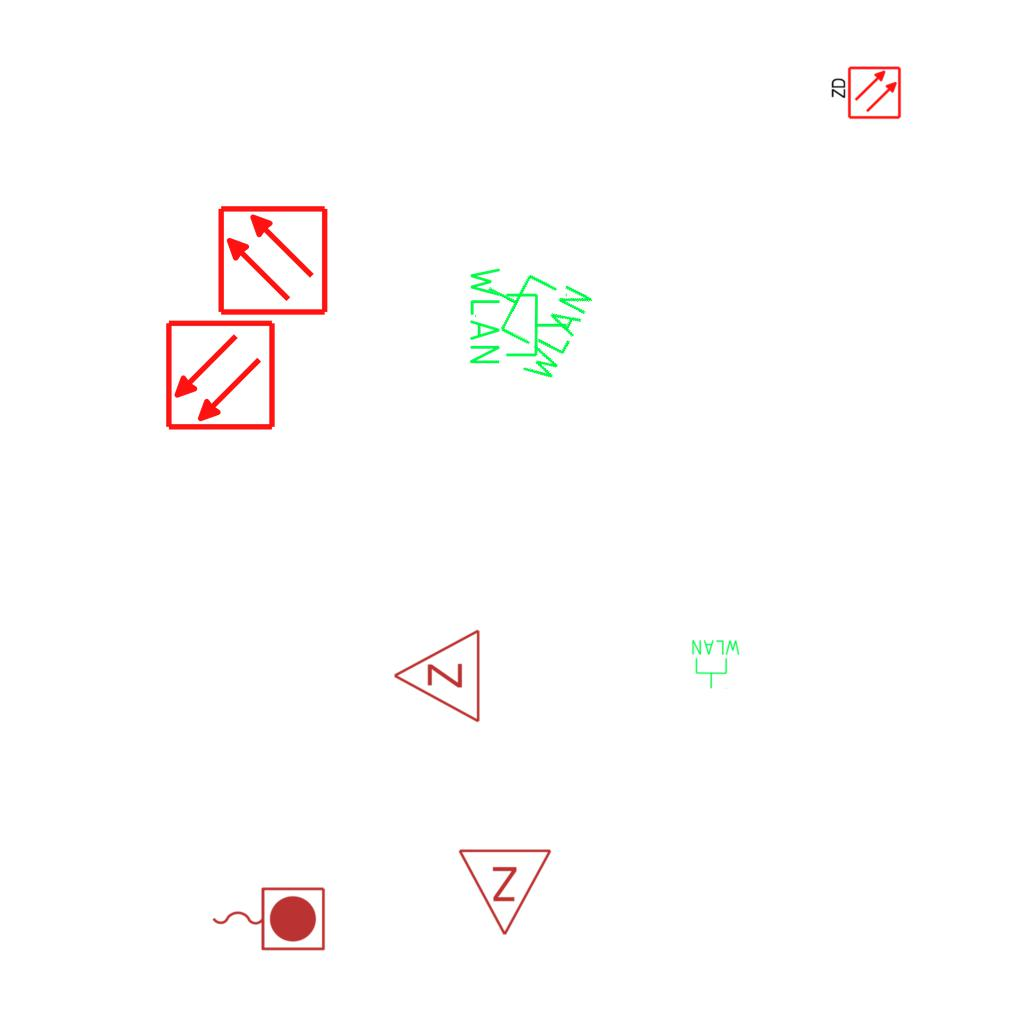RMO_Rauchmelder_optischer: (216, 204, 329, 317), (164, 319, 277, 432)
WLAN: (457, 249, 599, 390), (466, 263, 570, 368), (690, 638, 742, 690)
ZD_Melder_in_Zwischendecke_mit_Revisionsoeffnung_mind_40_x_40_cm: (828, 65, 902, 122)
Zimmersignalleuchte: (387, 628, 487, 726), (457, 842, 555, 942)
Zugtaster: (207, 882, 329, 954)
